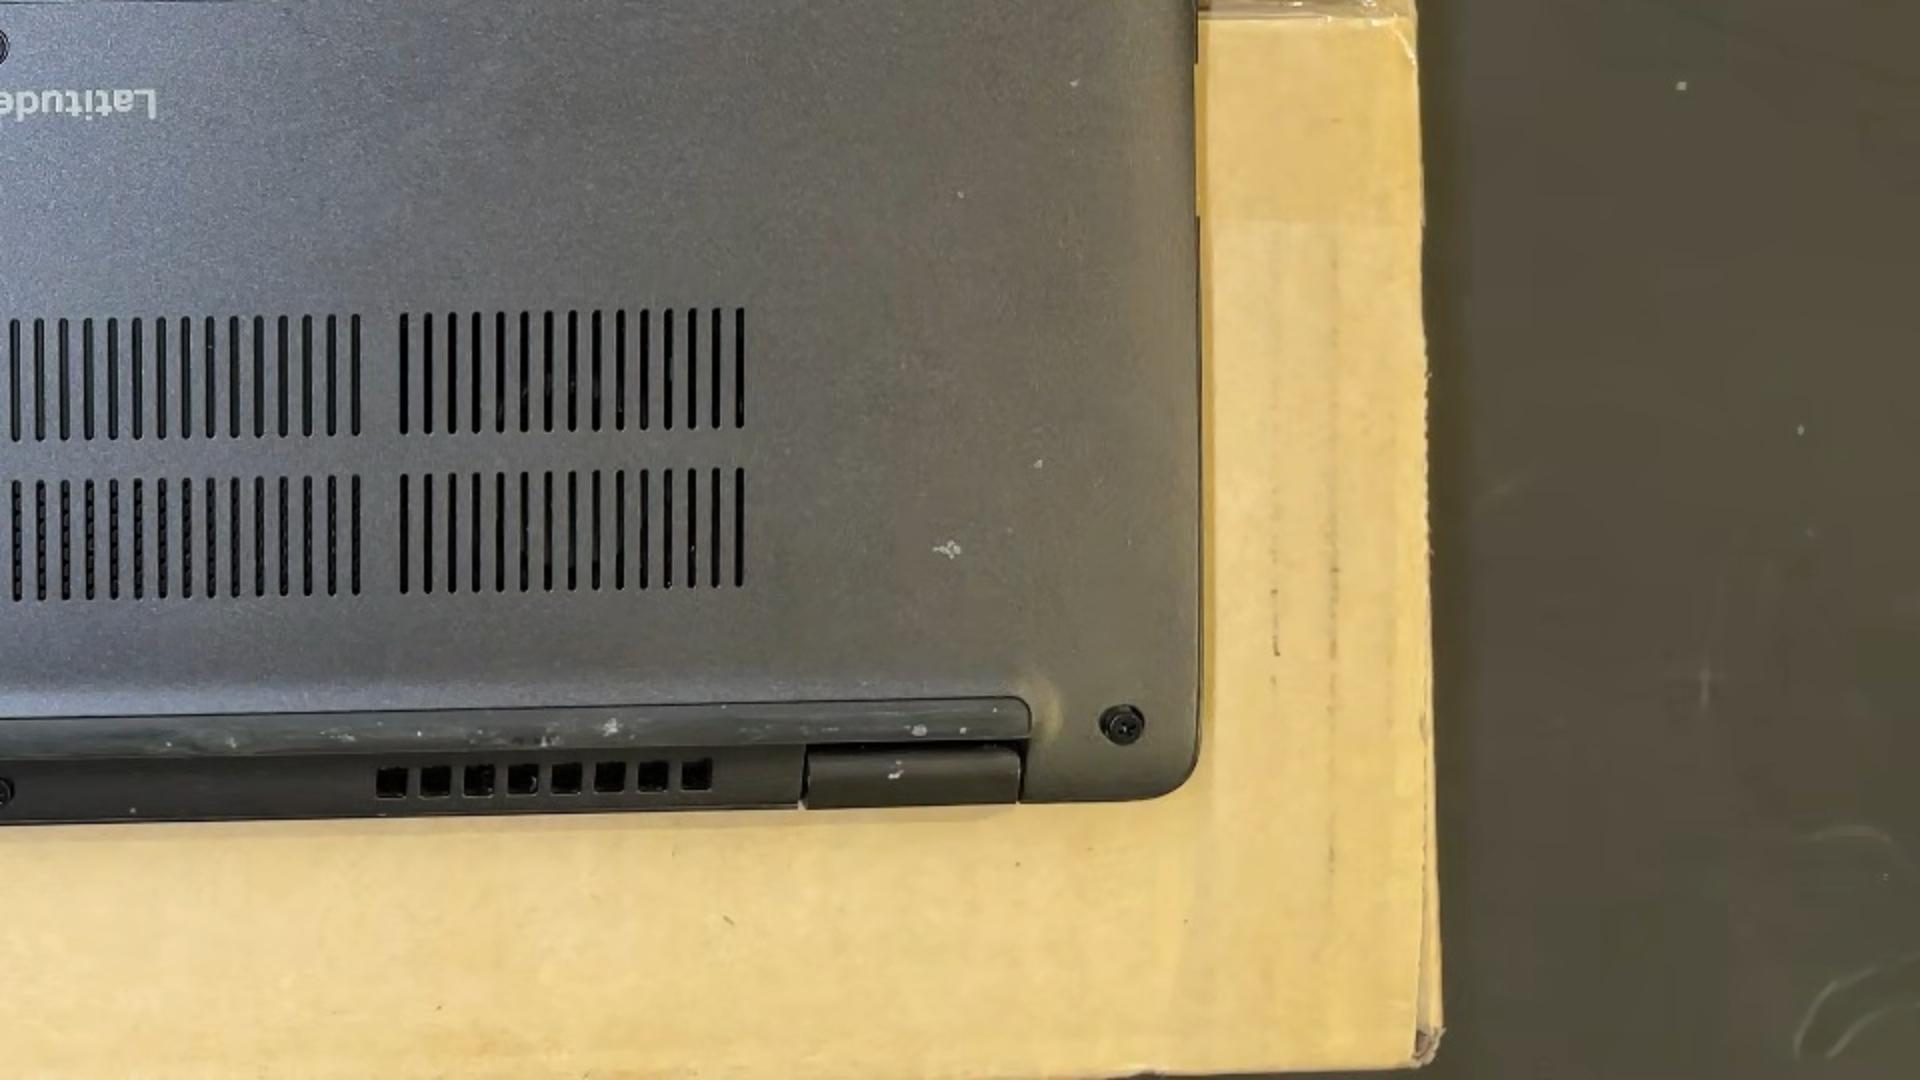chip: (930, 535, 967, 562), (1068, 76, 1083, 88), (956, 190, 968, 200), (164, 740, 177, 749), (415, 729, 426, 738)
scratches: (886, 767, 907, 781)
